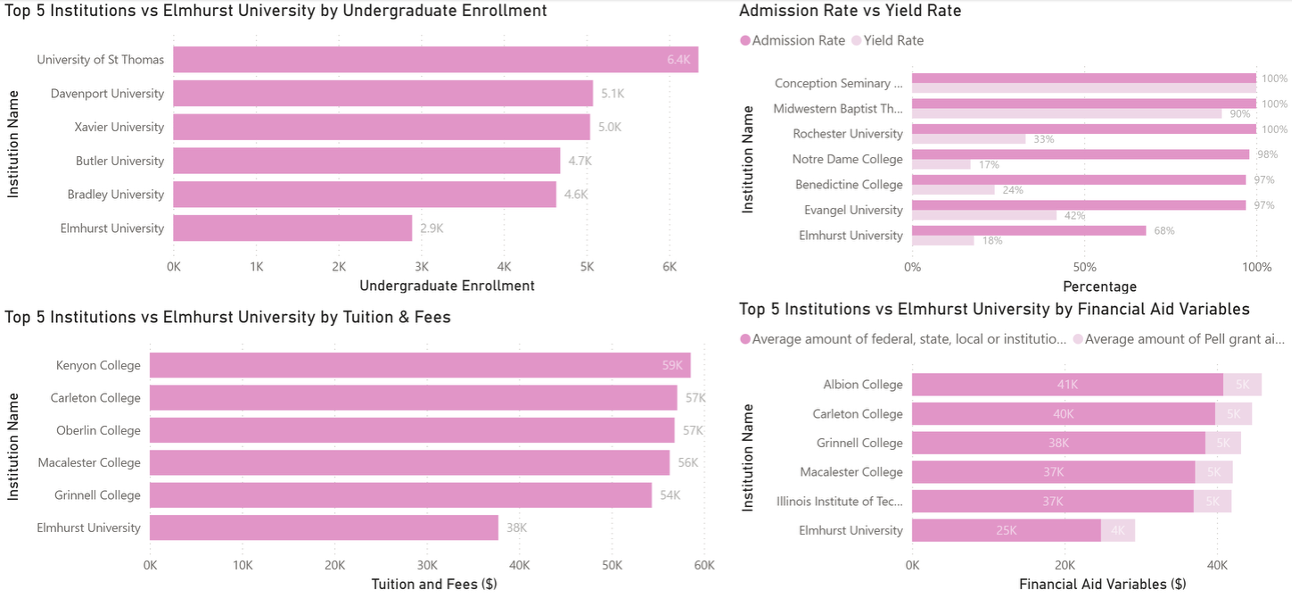

Layout of this report page (visuals, bound fields, positions):
{"tool":"powerbi","page":{"name":"2019 (1)","canvas":[1280,720],"ordinal":0},"visuals":[{"type":"clusteredBarChart","title":"Top 5 Institutions vs Elmhurst University by Undergraduate Enrollment","fields":{"Y":["Sum(Table1.Undergraduate enrollment)"],"Category":["Table1.institution name"]},"box":[0,0,718,291.7],"z":0},{"type":"clusteredBarChart","title":"Top 5 Institutions vs Elmhurst University by Tuition & Fees","fields":{"Category":["Table1.institution name"],"Y":["Sum(Table1.Tuition and fees)"]},"box":[0,299.5,718,283.8],"z":1000},{"type":"clusteredBarChart","title":"Admission Rate vs Yield Rate","fields":{"Category":["Table1.institution name"],"Y":["Table1.Admission Rate","Table1.Yield Rate"]},"box":[718,0,561.7,292.3],"z":2000},{"type":"barChart","title":"Top 5 Institutions vs Elmhurst University by Financial Aid Variables","fields":{"Category":["Table1.institution name"],"Y":["Sum(Table1.Average amount of federal, state, local or institutional grant aid awarded)","Sum(Table1.Average amount of Pell grant aid awarded to full-time first-time undergraduates)"]},"box":[718,291.7,561.7,291.7],"z":3000}]}

Visuals, with their boxes on the page's 1280x720 design canvas (x1, y1, x2, y2). These are canvas units, not pixel positions in the 1292x616 screenshot, which may show the page scaled, cropped or inside an application window:
"Top 5 Institutions vs Elmhurst University by Undergraduate Enrollment" clusteredBarChart: pyautogui.locateOnScreen(0, 0, 718, 292)
"Top 5 Institutions vs Elmhurst University by Tuition & Fees" clusteredBarChart: pyautogui.locateOnScreen(0, 300, 718, 583)
"Admission Rate vs Yield Rate" clusteredBarChart: pyautogui.locateOnScreen(718, 0, 1280, 292)
"Top 5 Institutions vs Elmhurst University by Financial Aid Variables" barChart: pyautogui.locateOnScreen(718, 292, 1280, 583)
